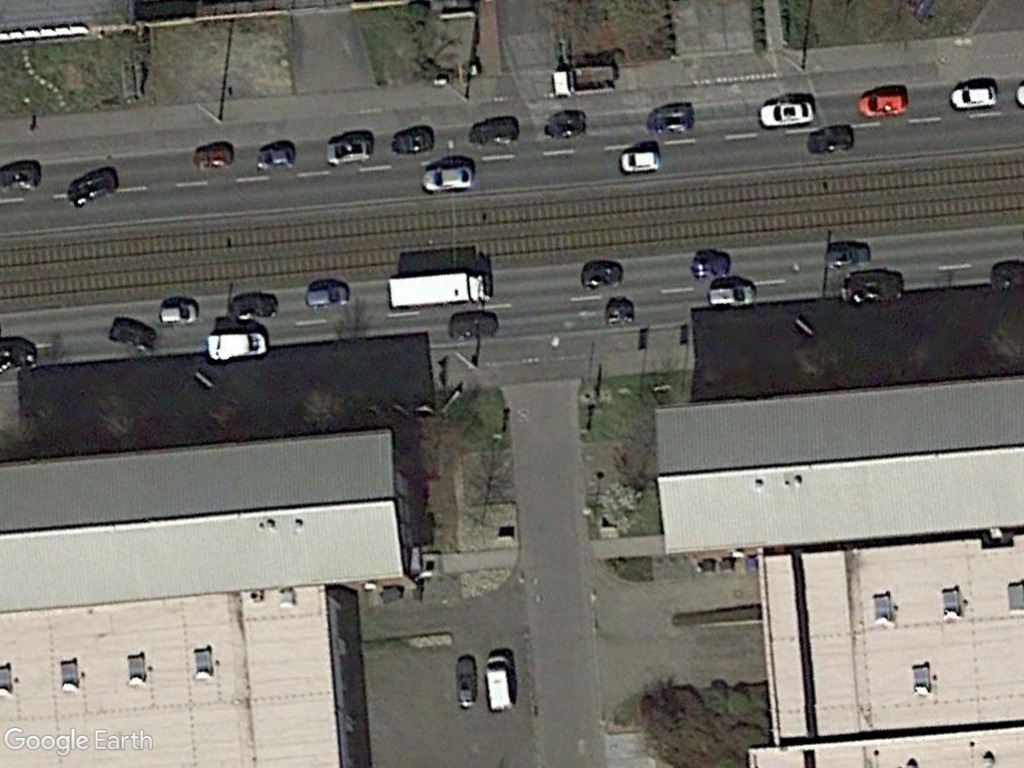car: (417, 162, 476, 194), (755, 100, 816, 129), (854, 90, 909, 120), (946, 85, 997, 112), (616, 147, 661, 176), (155, 302, 196, 329)
truck: (381, 270, 495, 312)
van: (479, 648, 518, 716)
